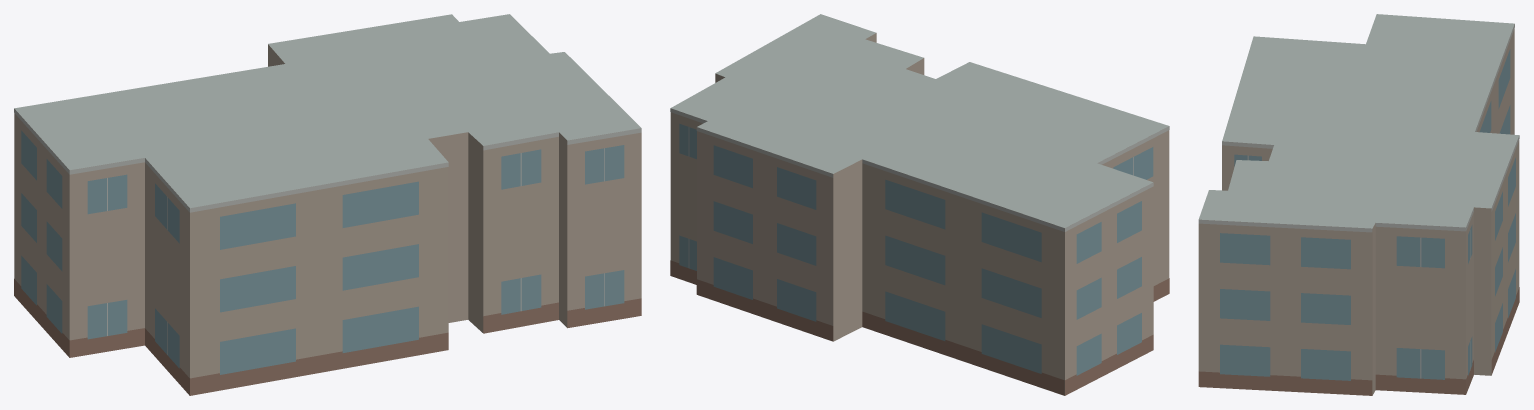
File: survey-upis-32685807.glb
The picture shows the model from 3 angles, left to right: view 1: azimuth 30°, elevation 25°; view 2: azimuth 150°, elevation 25°; view 3: azimuth 270°, elevation 25°; orthographic projection. The views are drawn at different scales.
Visible parts, largest first — view 1: survey-upis-32685807.tmp; view 2: survey-upis-32685807.tmp; view 3: survey-upis-32685807.tmp.
Part boxes in pixels (x1=…): survey-upis-32685807.tmp: x1=14, y1=14, x2=641, y2=395; survey-upis-32685807.tmp: x1=670, y1=14, x2=1169, y2=395; survey-upis-32685807.tmp: x1=1198, y1=14, x2=1519, y2=395.
Size of the model in its own units: 28.49 by 10.36 by 18.01.
